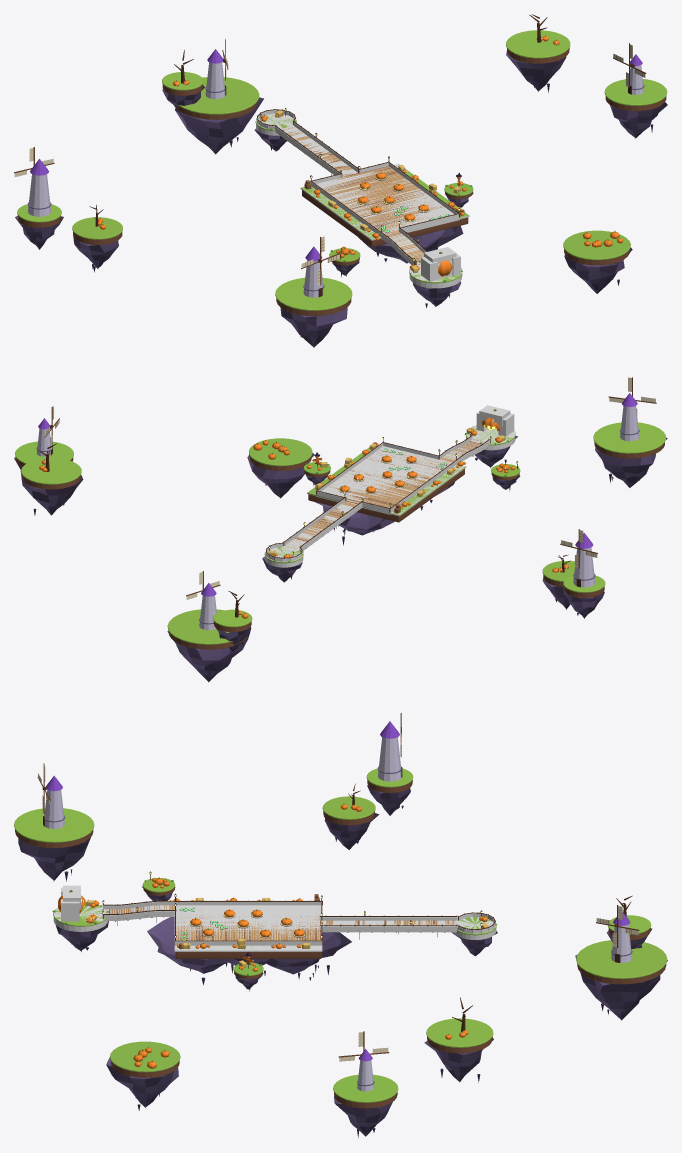
The picture shows the model from 3 angles, top to bottom: view 1: azimuth 30°, elevation 25°; view 2: azimuth 150°, elevation 25°; view 3: azimuth 270°, elevation 25°; orthographic projection. The views are drawn at different scales.
Visible parts, largest first — view 1: V_grass, V_rock, C_0, V_dirt, V_plank, V_stone_light, V_pumpkin, V_beam_dark, C_1, V_plank_dark, V_cloth_purple; view 2: V_grass, C_0, V_rock, V_dirt, V_stone_light, V_plank, V_pumpkin, V_beam_dark, C_1, V_cloth_purple, V_plank_dark; view 3: V_grass, V_rock, C_0, V_dirt, V_stone_light, V_plank, V_pumpkin, V_beam_dark, C_1, V_cloth_purple.
Part boxes in pixels (x1,y1,x2,y2): V_grass: [17, 30, 667, 310]; V_rock: [15, 51, 667, 347]; C_0: [256, 110, 469, 288]; V_dirt: [18, 48, 666, 315]; V_plank: [279, 126, 443, 264]; V_stone_light: [28, 62, 644, 297]; V_pumpkin: [98, 36, 623, 276]; V_beam_dark: [89, 14, 631, 297]; C_1: [421, 247, 460, 281]; V_plank_dark: [290, 134, 464, 265]; V_cloth_purple: [30, 49, 642, 261]; V_grass: [15, 422, 665, 644]; C_0: [265, 425, 515, 567]; V_rock: [14, 436, 667, 682]; V_dirt: [16, 442, 664, 649]; V_stone_light: [36, 405, 639, 630]; V_plank: [285, 439, 484, 549]; V_pumpkin: [39, 417, 568, 618]; V_beam_dark: [38, 431, 580, 617]; C_1: [476, 405, 514, 436]; V_cloth_purple: [38, 393, 637, 596]; V_plank_dark: [295, 440, 481, 541]; V_grass: [14, 768, 667, 1102]; V_rock: [18, 780, 667, 1136]; C_0: [53, 900, 496, 951]; V_dirt: [15, 780, 666, 1108]; V_stone_light: [44, 737, 632, 1091]; V_plank: [103, 905, 456, 940]; V_pumpkin: [58, 804, 487, 1068]; V_beam_dark: [43, 767, 632, 1031]; C_1: [61, 885, 80, 921]; V_cloth_purple: [46, 721, 630, 1061].
Size of the model in its own units: 144 by 37.64 by 124.
